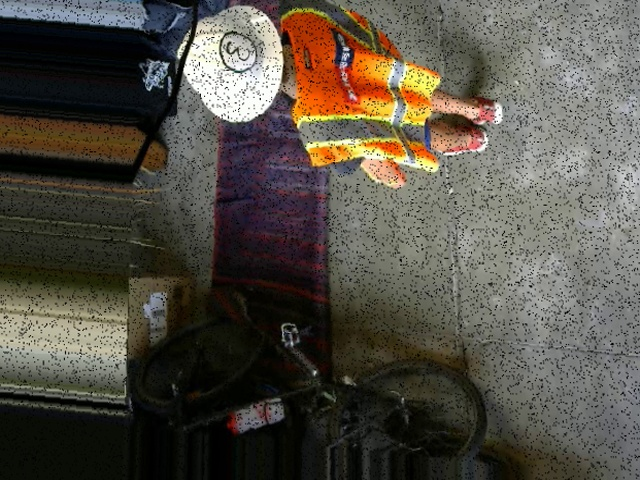three: (218, 30, 256, 74)
